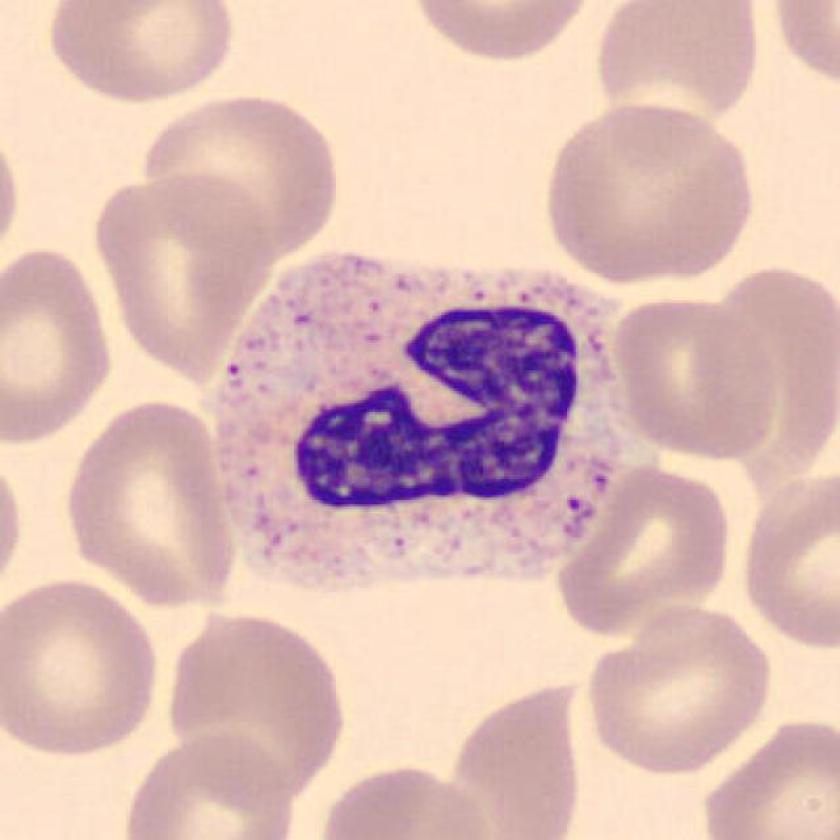neutrophil: (214, 253, 630, 592)
